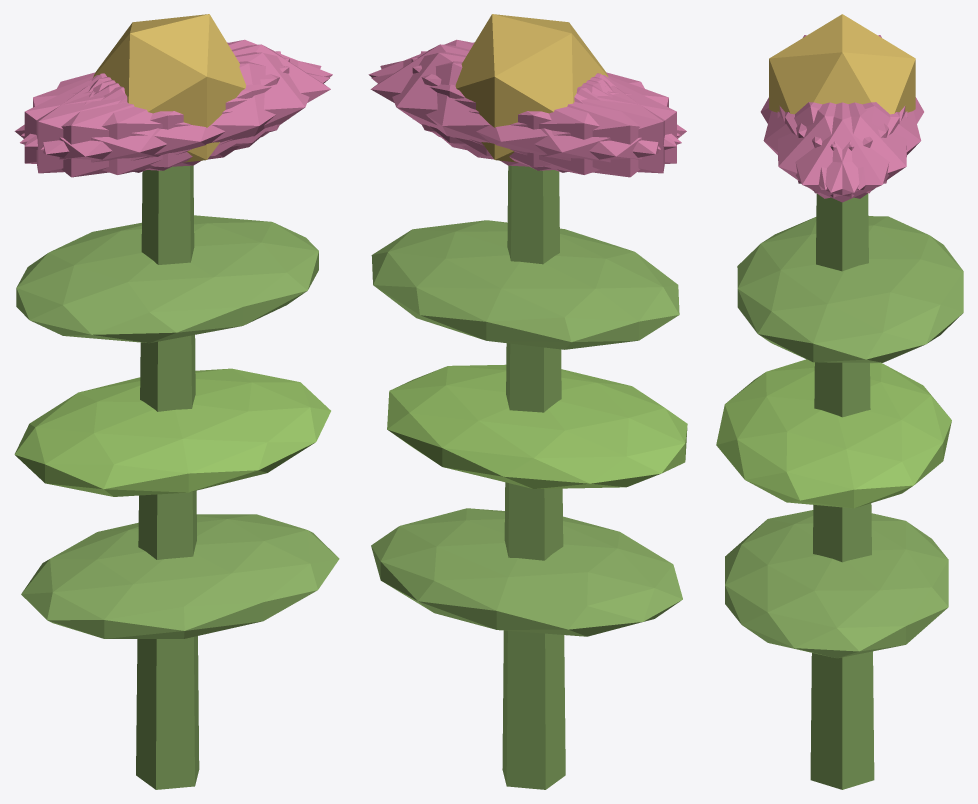
File: coleus-amboinicus.glb
3 renders of one model, left to right at view 1: azimuth 30°, elevation 25°; view 2: azimuth 150°, elevation 25°; view 3: azimuth 270°, elevation 25°, orthographic.
Parts seen in each view (by area): view 1: leaf1, leaf0, leaf2, stem, center, petal1, petal6, petal2, petal5, petal7, petal0, petal4 (+2 smaller); view 2: leaf2, leaf1, leaf0, stem, center, petal8, petal3, petal7, petal4, petal2, petal0, petal5 (+2 smaller); view 3: leaf2, leaf1, leaf0, stem, center, petal0, petal5, petal4, petal8, petal1.
Boxes of the visible parts, left/top/right/bottom form: leaf1: left=14, top=368, right=330, bottom=496; leaf0: left=21, top=514, right=339, bottom=638; leaf2: left=16, top=215, right=318, bottom=343; stem: left=136, top=165, right=199, bottom=789; center: left=93, top=14, right=245, bottom=162; petal1: left=20, top=61, right=329, bottom=174; petal6: left=14, top=75, right=239, bottom=177; petal2: left=36, top=51, right=280, bottom=173; petal5: left=40, top=52, right=321, bottom=167; petal7: left=24, top=57, right=289, bottom=170; petal0: left=93, top=44, right=330, bottom=156; petal4: left=21, top=39, right=332, bottom=146; leaf2: left=371, top=220, right=679, bottom=349; leaf1: left=387, top=364, right=687, bottom=488; leaf0: left=371, top=508, right=682, bottom=636; stem: left=502, top=165, right=565, bottom=789; center: left=455, top=14, right=608, bottom=162; petal8: left=371, top=61, right=681, bottom=174; petal3: left=462, top=75, right=686, bottom=177; petal7: left=420, top=51, right=664, bottom=173; petal4: left=380, top=52, right=660, bottom=167; petal2: left=411, top=57, right=676, bottom=170; petal0: left=370, top=44, right=608, bottom=156; petal5: left=368, top=39, right=680, bottom=146; leaf2: left=737, top=216, right=963, bottom=362; leaf1: left=716, top=359, right=951, bottom=508; leaf0: left=725, top=510, right=948, bottom=658; stem: left=810, top=193, right=874, bottom=789; center: left=769, top=14, right=915, bottom=114; petal0: left=779, top=102, right=905, bottom=202; petal5: left=777, top=102, right=899, bottom=198; petal4: left=785, top=102, right=907, bottom=198; petal8: left=796, top=102, right=921, bottom=190; petal1: left=763, top=102, right=888, bottom=190.
Bounding box in the file's own units: 0.1452 × 0.342 × 0.1034.
